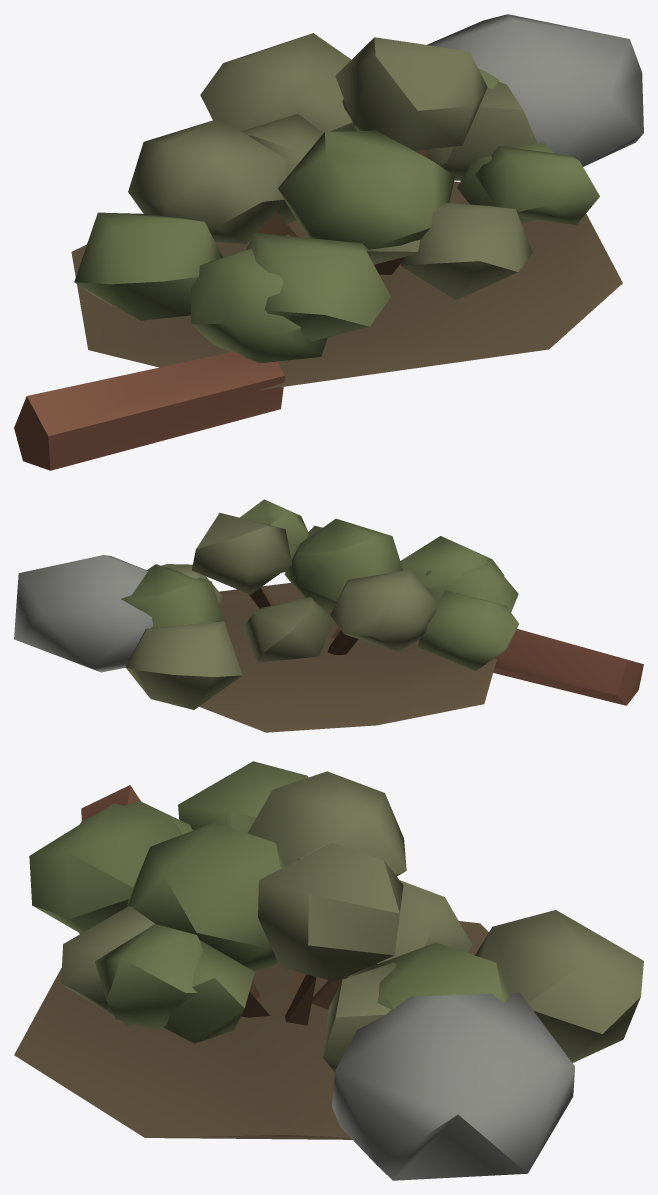
Rendered from saltbush_c_lod2.glb.
3 views of the same model, one above another, from view 1: azimuth 30°, elevation 25°; view 2: azimuth 150°, elevation 25°; view 3: azimuth 270°, elevation 25° (orthographic). The views are drawn at different scales.
Visible parts, largest first — view 1: Surface.001; view 2: Surface.001; view 3: Surface.001.
Part boxes in pixels (x1=…): Surface.001: x1=14, y1=14, x2=643, y2=470; Surface.001: x1=14, y1=499, x2=643, y2=732; Surface.001: x1=14, y1=761, x2=643, y2=1180.
Size of the model in its own units: 2.79 by 0.817 by 1.89.
